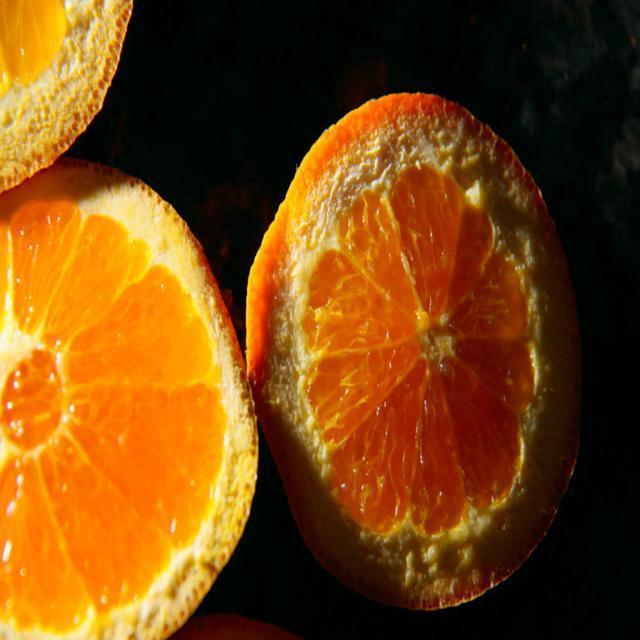Orange: (245, 89, 582, 611), (0, 156, 259, 638), (0, 0, 133, 192)
